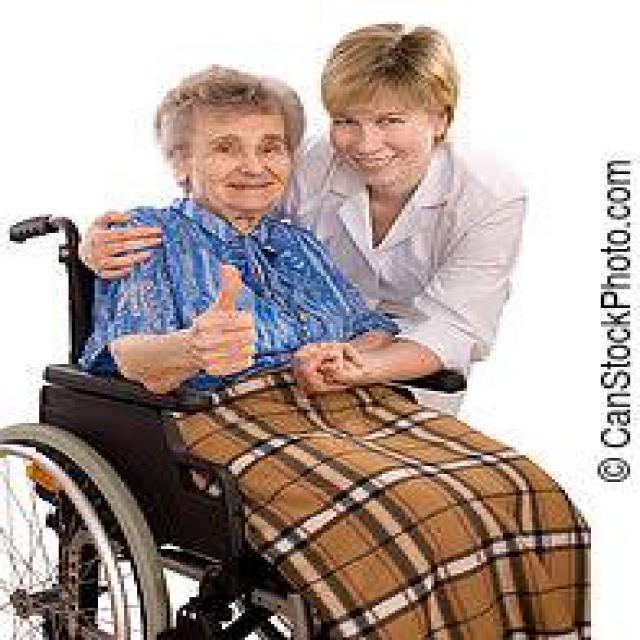wheelchairs: (0, 208, 513, 638)
